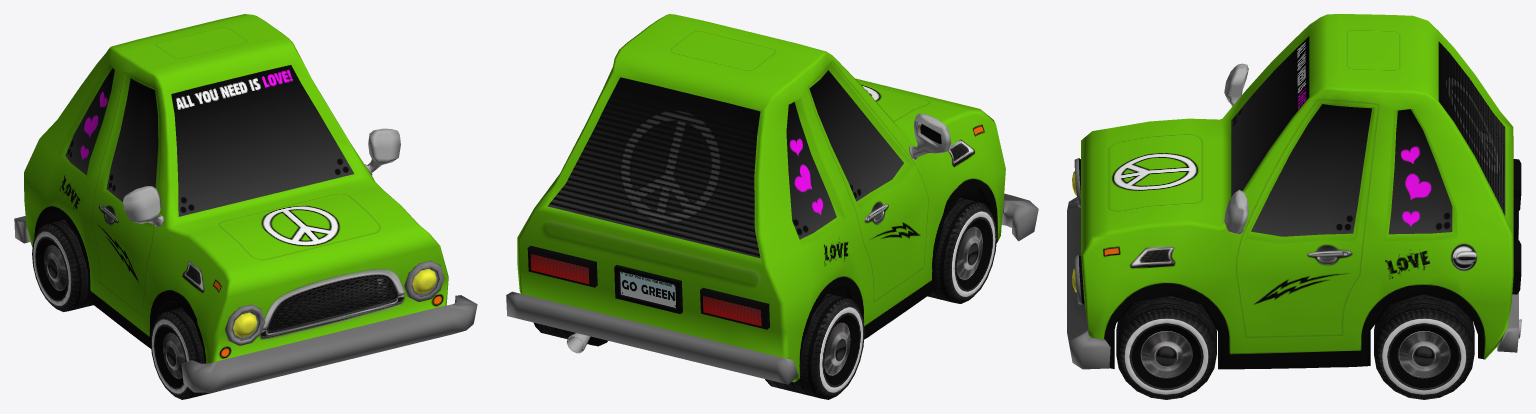
File: MiniToonCar.fbx
The picture shows the model from 3 angles, left to right: view 1: azimuth 30°, elevation 25°; view 2: azimuth 150°, elevation 25°; view 3: azimuth 270°, elevation 25°; orthographic projection. The views are drawn at different scales.
Visible parts, largest first — view 1: Body, WheelBackRight, WheelFrontRight, polySurface111, rightLight, leftLight, polySurface110; view 2: Body, WheelBackRight, WheelFrontRight, License, leftBreakLight, rightBreakLight, polySurface111; view 3: Body, WheelBackLeft, WheelFrontLeft, polySurface110, polySurface111, leftBreakLight, leftLight.
Boxes of the visible parts, x1=… form: Body: x1=14, y1=14, x2=477, y2=392; WheelBackRight: x1=32, y1=219, x2=93, y2=311; WheelFrontRight: x1=150, y1=307, x2=219, y2=399; polySurface111: x1=123, y1=186, x2=163, y2=227; rightLight: x1=225, y1=304, x2=265, y2=345; leftLight: x1=404, y1=260, x2=444, y2=301; polySurface110: x1=364, y1=128, x2=400, y2=175; Body: x1=506, y1=14, x2=1038, y2=384; WheelBackRight: x1=765, y1=293, x2=864, y2=399; WheelFrontRight: x1=927, y1=197, x2=996, y2=303; License: x1=614, y1=265, x2=682, y2=313; leftBreakLight: x1=527, y1=245, x2=597, y2=287; rightBreakLight: x1=700, y1=288, x2=769, y2=329; polySurface111: x1=909, y1=113, x2=951, y2=159; Body: x1=1067, y1=14, x2=1518, y2=369; WheelBackLeft: x1=1374, y1=294, x2=1474, y2=399; WheelFrontLeft: x1=1116, y1=296, x2=1216, y2=399; polySurface110: x1=1224, y1=189, x2=1248, y2=233; polySurface111: x1=1224, y1=63, x2=1248, y2=106; leftBreakLight: x1=1512, y1=240, x2=1521, y2=294; leftLight: x1=1072, y1=255, x2=1084, y2=304.
Size of the model in its own units: 46.18 by 39.76 by 57.53.
